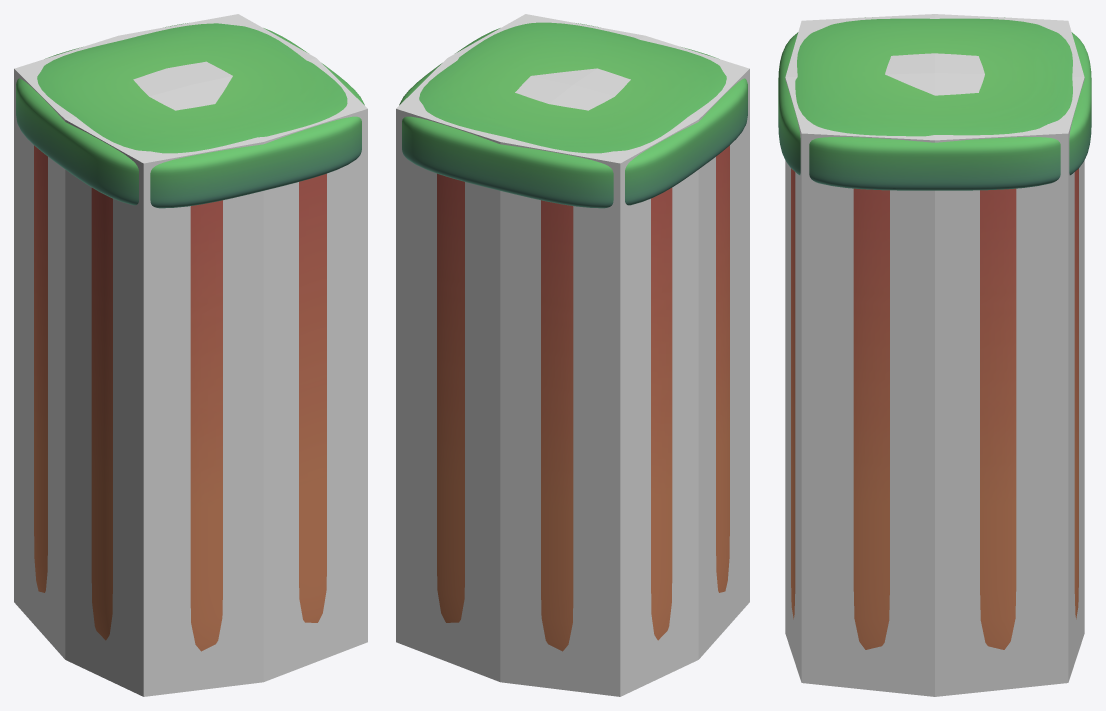
File: PlatformBigTall.glb
The picture shows the model from 3 angles, left to right: view 1: azimuth 30°, elevation 25°; view 2: azimuth 150°, elevation 25°; view 3: azimuth 270°, elevation 25°; orthographic projection. The views are drawn at different scales.
Parts seen in each view (by area): view 1: colision-colonly.008, PlatformBigTall; view 2: colision-colonly.008, PlatformBigTall; view 3: colision-colonly.008, PlatformBigTall.
Part boxes in pixels (left/top/right/bottom): colision-colonly.008: left=14, top=14, right=367, bottom=696; PlatformBigTall: left=16, top=23, right=364, bottom=651; colision-colonly.008: left=396, top=14, right=749, bottom=696; PlatformBigTall: left=399, top=22, right=747, bottom=651; colision-colonly.008: left=785, top=14, right=1084, bottom=696; PlatformBigTall: left=778, top=17, right=1091, bottom=649.
Bounding box in the file's own units: 4 × 7.9 × 4.
1 material, 1 textured.
